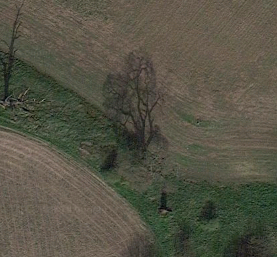tree: (99, 142, 170, 197), (190, 200, 232, 239)
